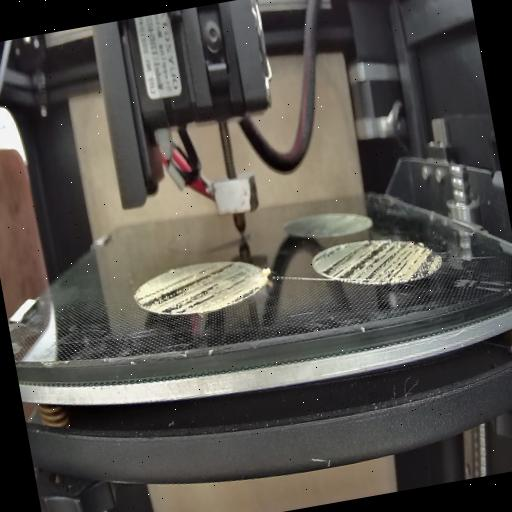under_extrusion: (315, 225, 441, 294), (133, 256, 260, 320)
